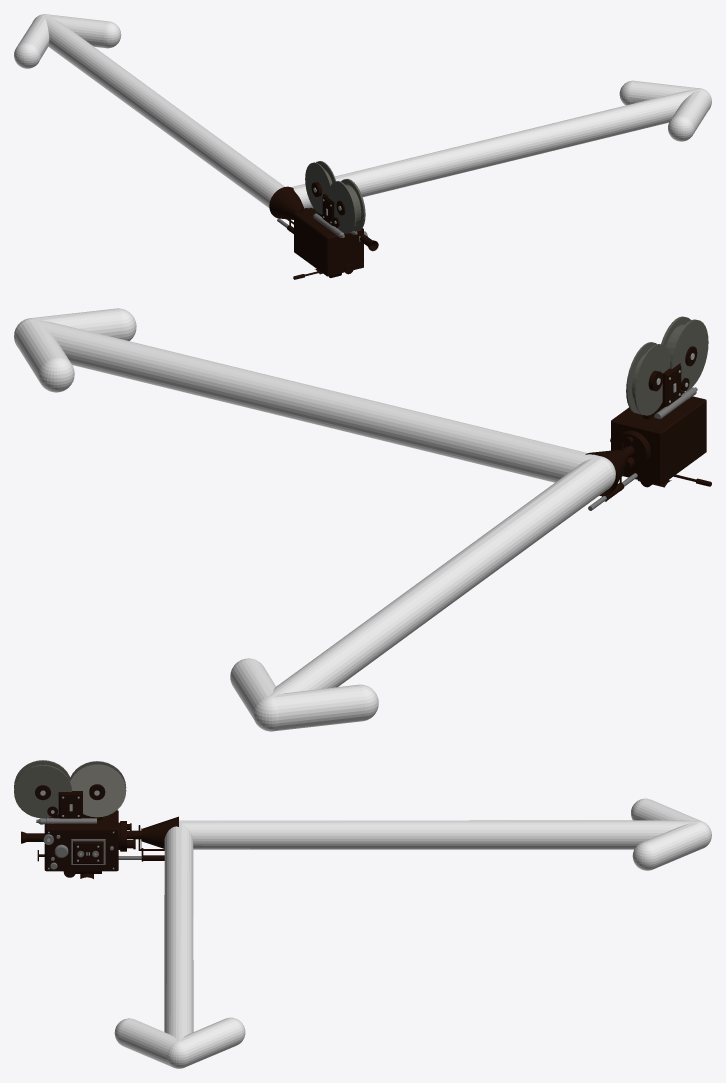
The model's file is cameraWithArrows.fbx.
3 views of the same model, one above another, from view 1: azimuth 30°, elevation 25°; view 2: azimuth 150°, elevation 25°; view 3: azimuth 270°, elevation 25° (orthographic). The views are drawn at different scales.
Parts seen in each view (by area): view 1: ZArrow, XArrow, cam; view 2: ZArrow, XArrow, cam; view 3: XArrow, cam, ZArrow.
Boxes of the visible parts, x1,y1,x2,y2 form: ZArrow: (291,80,711,208); XArrow: (14,14,284,208); cam: (269,161,378,279); ZArrow: (14,308,615,488); XArrow: (230,456,615,731); cam: (585,316,711,510); XArrow: (179,798,711,870); cam: (14,760,178,878); ZArrow: (114,820,245,1068).
Bounding box in the file's own units: 409 × 84.53 × 476.
